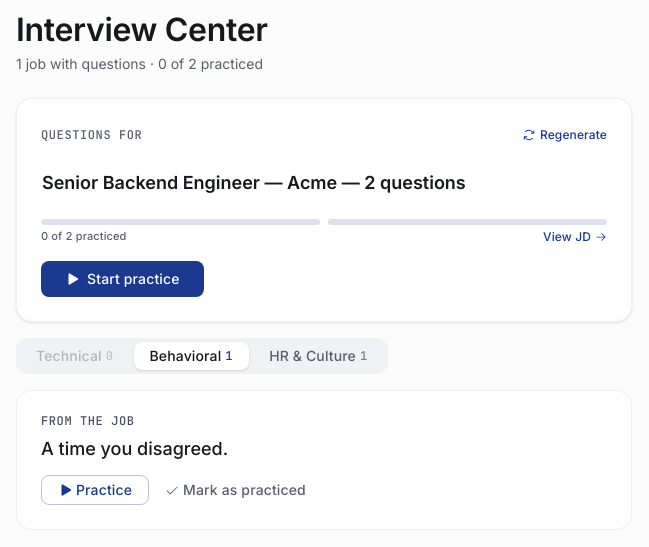
Scenario: InterviewIndexPage — real questions exist across JDs › files HR & Culture questions under their own tab, not Behavioral
Click the tab with aria-label "HR & Culture (1)" at (318, 356), box [253,342,384,370]
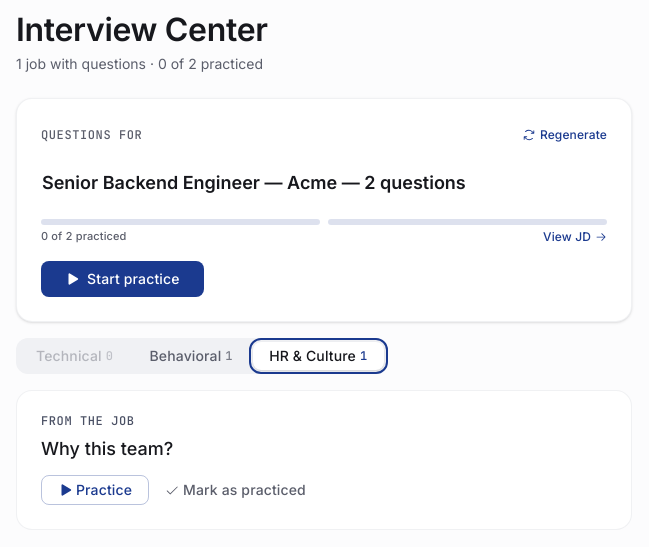
Check: the text "Why this team?" is shown, box [41,438,173,458]
Check: the text "A time you disagreed." is gone
Click the tab with aria-label "Behavioral (1)" at (191, 356), box [134,342,249,370]
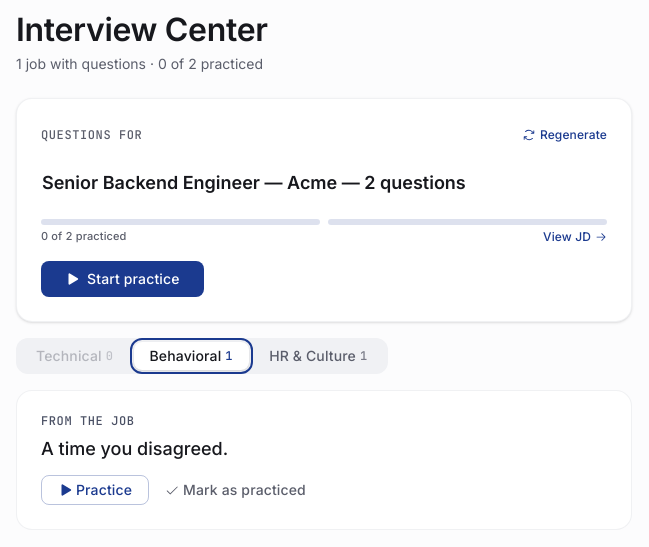
Check: the text "A time you disagreed." is shown, box [41,438,228,458]
Check: the text "Why this team?" is gone
